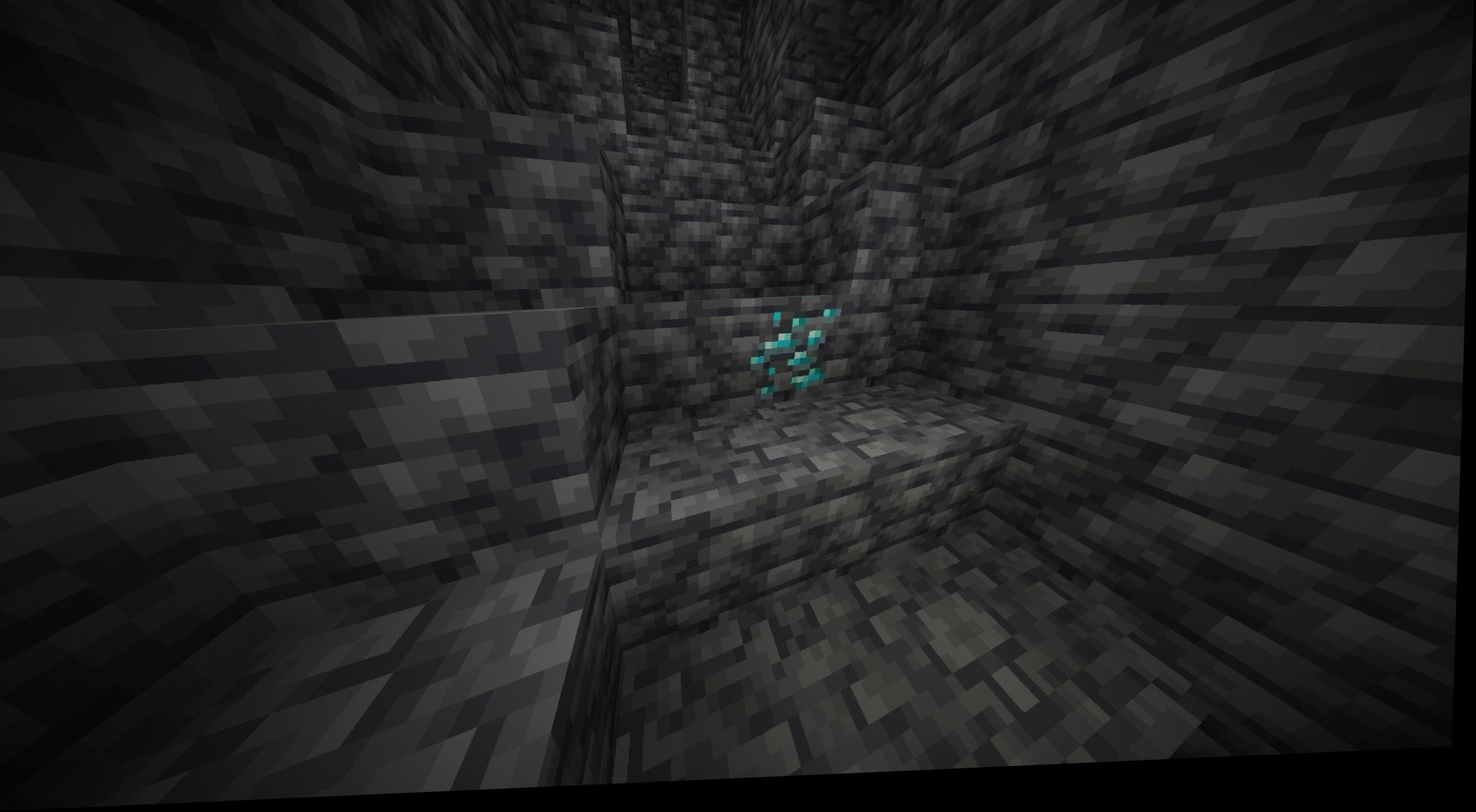diamond ore: (745, 311, 833, 409)
